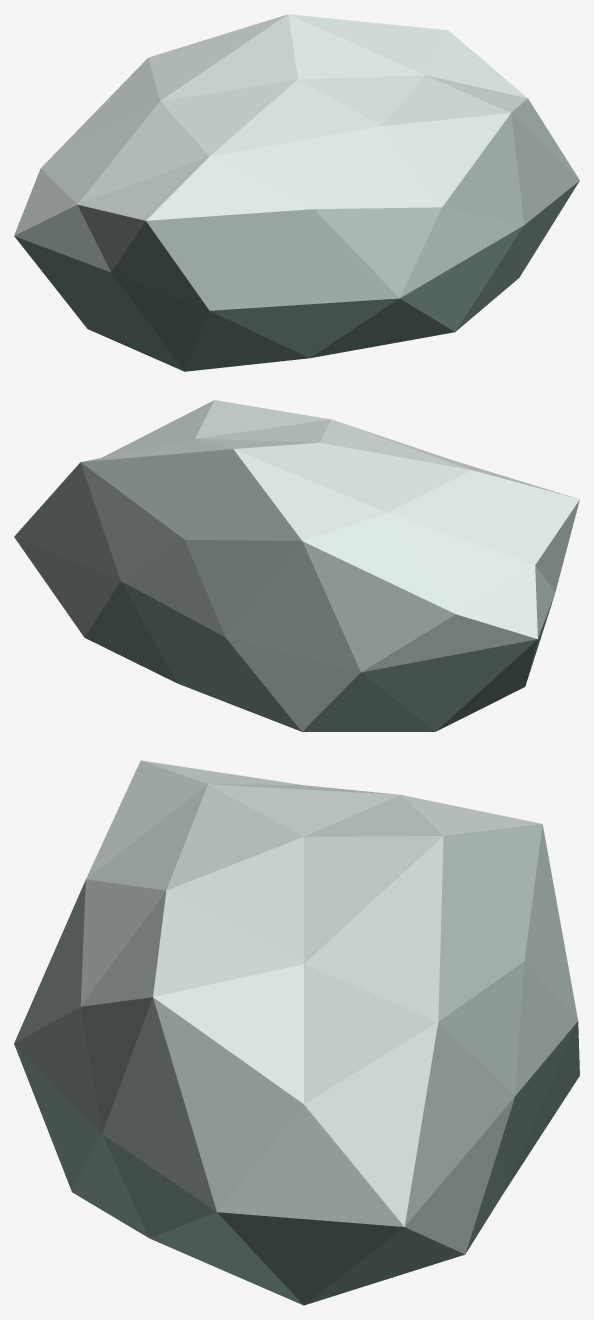
The model's file is rock-a.glb.
3 renders of one model, top to bottom at view 1: azimuth 30°, elevation 25°; view 2: azimuth 150°, elevation 25°; view 3: azimuth 270°, elevation 25°, orthographic. The views are drawn at different scales.
Parts seen in each view (by area): view 1: weathered-rock; view 2: weathered-rock; view 3: weathered-rock.
Part boxes in pixels (x1=…): weathered-rock: x1=14, y1=14, x2=579, y2=371; weathered-rock: x1=14, y1=400, x2=579, y2=731; weathered-rock: x1=14, y1=760, x2=579, y2=1305.
Bounding box in the file's own units: 3.03 × 1.38 × 1.96.
